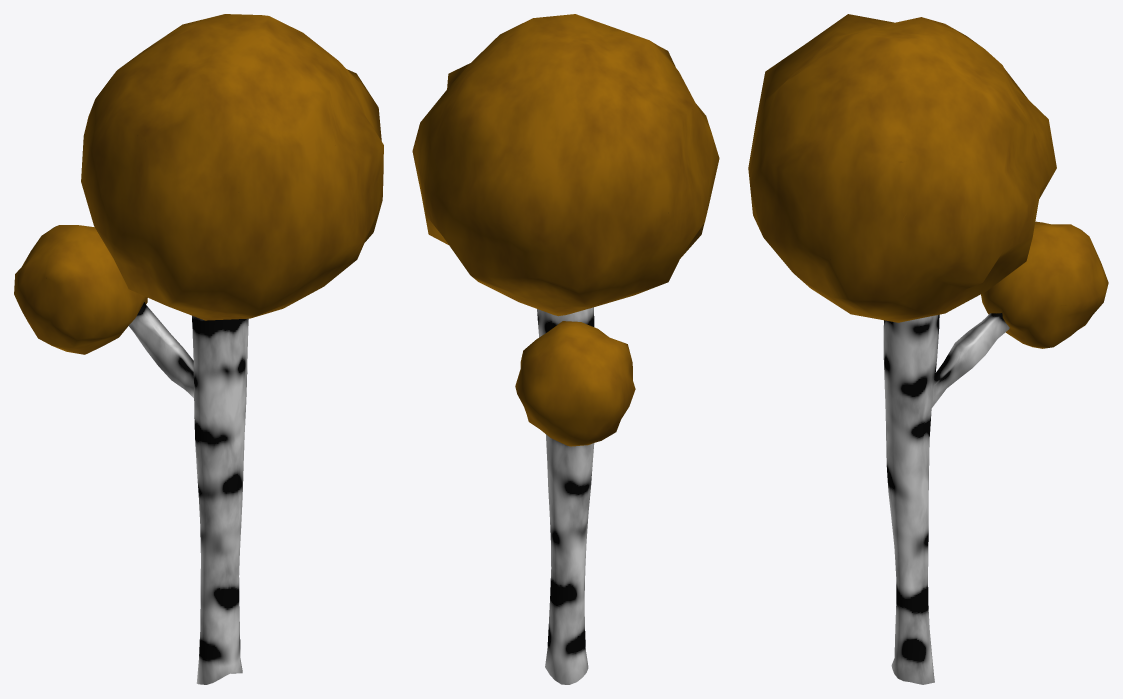
Rendered from BirchBrown.fbx.
3 renders of one model, left to right at view 1: azimuth 30°, elevation 25°; view 2: azimuth 150°, elevation 25°; view 3: azimuth 270°, elevation 25°, orthographic. The views are drawn at different scales.
Parts seen in each view (by area): view 1: BirchBrown; view 2: BirchBrown; view 3: BirchBrown.
Part boxes in pixels (box(x1,y1,x2,y2)): BirchBrown: box(14, 14, 383, 684); BirchBrown: box(412, 14, 719, 684); BirchBrown: box(748, 14, 1108, 684).
Bounding box in the file's own units: 243 × 569 × 281.
Materials: 2 (2 with a texture image).
